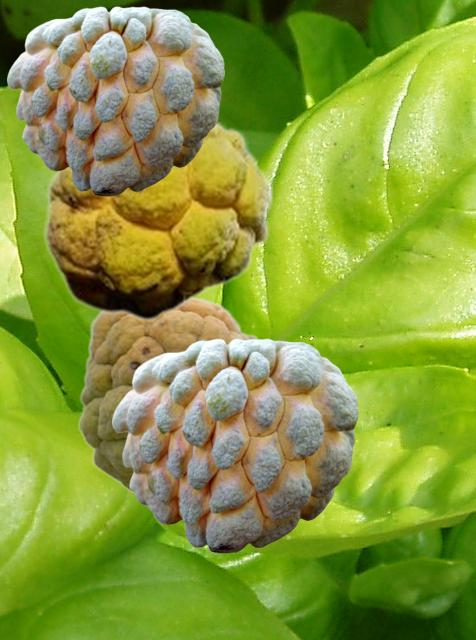atis: (112, 338, 357, 552), (42, 118, 273, 320), (7, 6, 223, 195), (77, 297, 262, 493)
